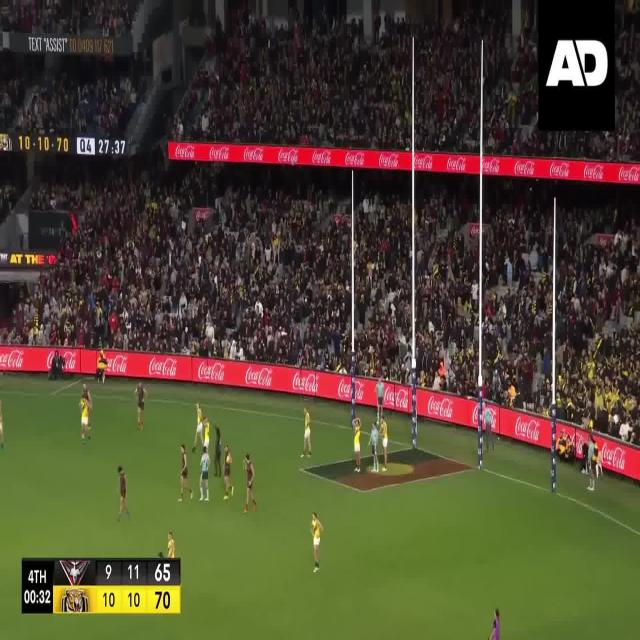crowd: (0, 177, 638, 446), (173, 17, 640, 160), (1, 81, 143, 134), (0, 1, 138, 32)
